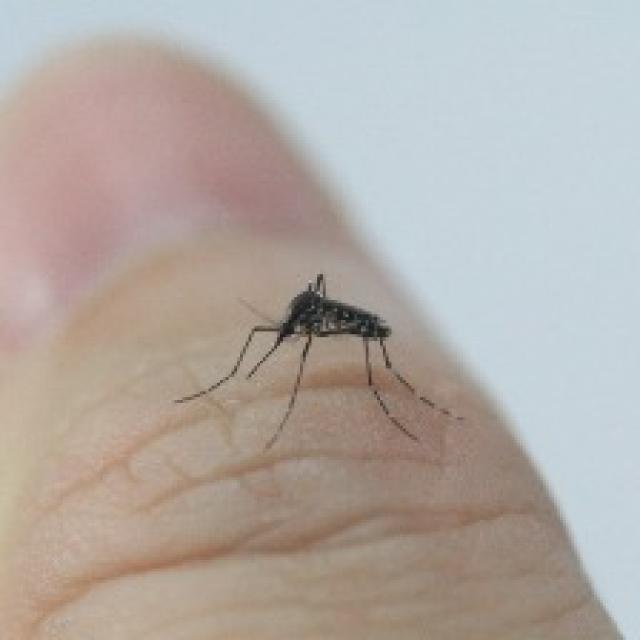aedes: (171, 268, 463, 452)
